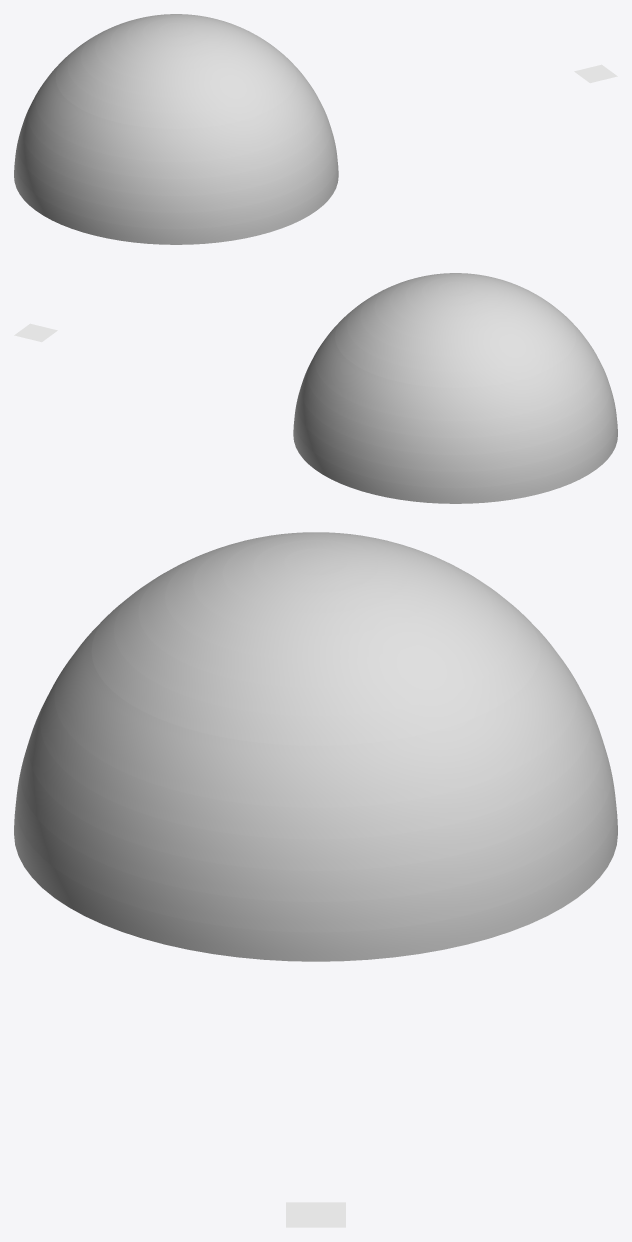
File: waves.fbx
3 views of the same model, one above another, from view 1: azimuth 30°, elevation 25°; view 2: azimuth 150°, elevation 25°; view 3: azimuth 270°, elevation 25° (orthographic). The views are drawn at different scales.
Parts seen in each view (by area): view 1: wave_10, wave_12, wave_13, wave_11, wave_14, wave_15, wave_8, wave_7, wave_6, wave_5, wave_4, wave_3 (+3 smaller); view 2: wave_10, wave_12, wave_13, wave_11, wave_14, wave_15, wave_8, wave_7, wave_6, wave_5, wave_4, wave_3 (+3 smaller); view 3: wave_10, wave_12, wave_13, wave_11, wave_14, wave_15, wave_8, wave_7, wave_6, wave_5, wave_4, wave_3 (+3 smaller).
Boxes of the visible parts, x1,y1,x2,y2 form: wave_10: [35, 57, 316, 162]; wave_12: [22, 107, 330, 195]; wave_13: [17, 125, 334, 212]; wave_11: [28, 89, 324, 179]; wave_14: [15, 141, 337, 229]; wave_15: [14, 162, 338, 244]; wave_8: [55, 46, 296, 128]; wave_7: [67, 35, 284, 112]; wave_6: [81, 23, 271, 97]; wave_5: [95, 14, 257, 83]; wave_4: [110, 14, 242, 69]; wave_3: [126, 15, 226, 57]; wave_10: [315, 316, 596, 421]; wave_12: [301, 366, 609, 454]; wave_13: [297, 384, 614, 471]; wave_11: [307, 348, 603, 438]; wave_14: [294, 400, 616, 488]; wave_15: [293, 421, 617, 503]; wave_8: [335, 305, 576, 387]; wave_7: [347, 294, 564, 371]; wave_6: [360, 282, 550, 356]; wave_5: [374, 273, 536, 342]; wave_4: [389, 273, 521, 328]; wave_3: [405, 274, 505, 316]; wave_10: [54, 614, 577, 807]; wave_12: [28, 704, 603, 870]; wave_13: [20, 735, 611, 901]; wave_11: [40, 670, 591, 839]; wave_14: [15, 767, 616, 932]; wave_15: [14, 807, 617, 961]; wave_8: [91, 589, 540, 745]; wave_7: [114, 569, 517, 715]; wave_6: [138, 550, 493, 687]; wave_5: [165, 533, 466, 660]; wave_4: [193, 532, 438, 635]; wave_3: [222, 534, 409, 613].
Bounding box in the file's own units: 410 × 100 × 201.
2 materials, 1 textured.
